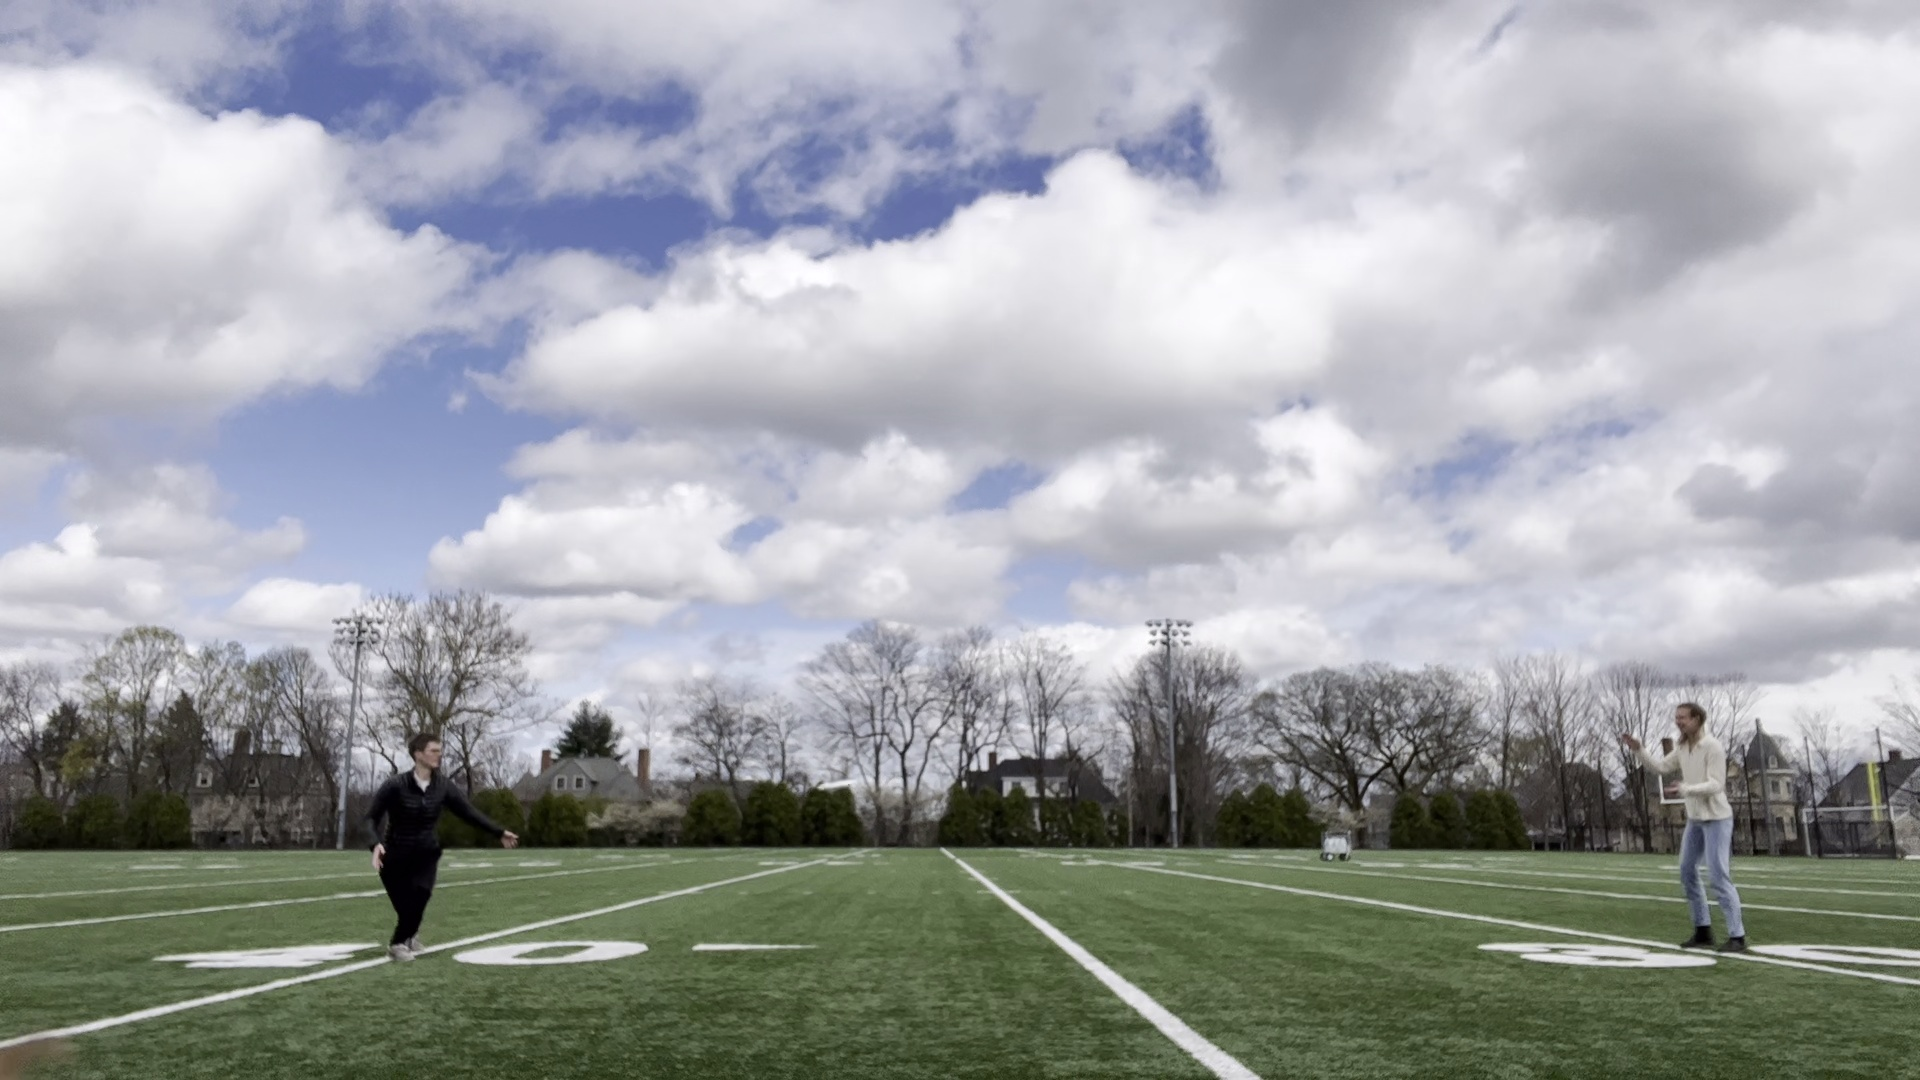Frisbee: (814, 771, 862, 796)
